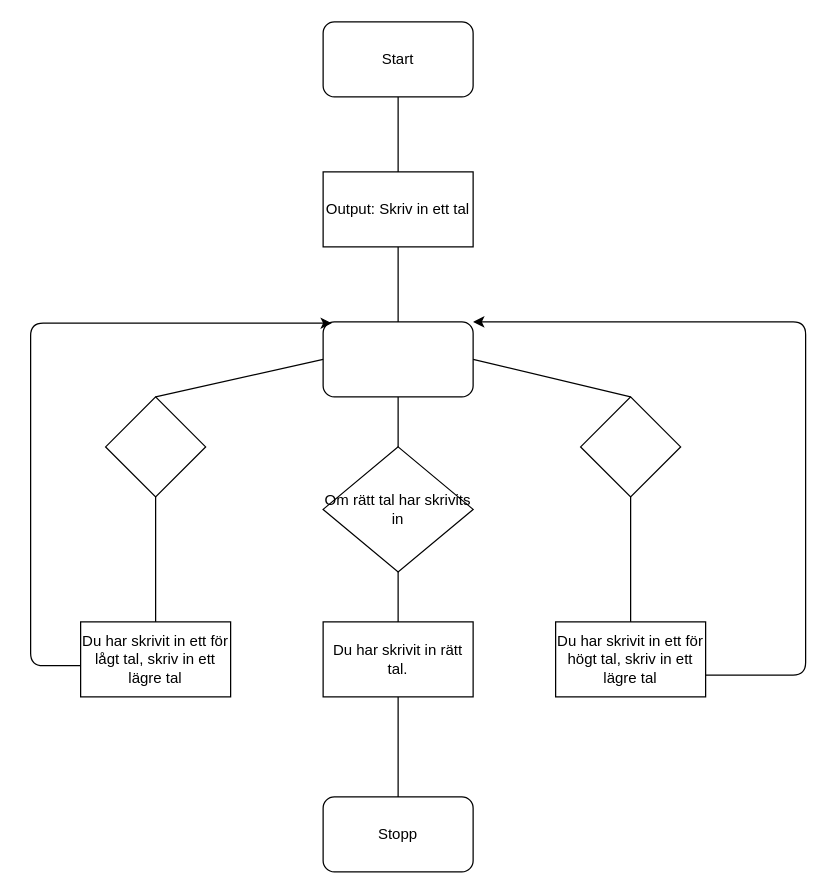
Some shapes in this 838 by 894 pixel diagram are drawn without their labels. Each missing label, with the box of its shape:
Input: tal: (322, 321, 473, 397)
Om tal är för högt: (579, 396, 681, 497)
Om tal är för lågt.: (104, 396, 206, 497)
